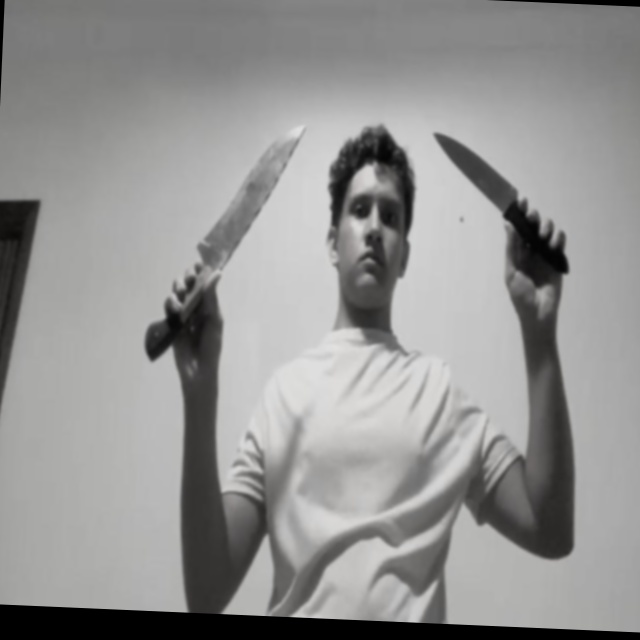Sharp-Object: (195, 118, 305, 267), (431, 131, 518, 216)
